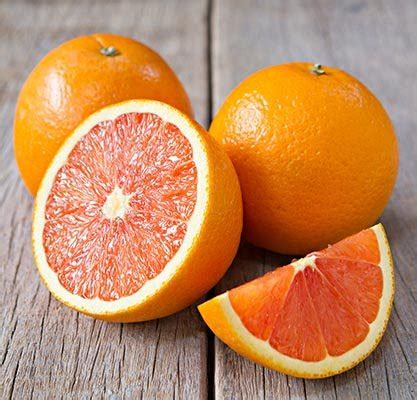orange: (202, 56, 402, 248), (9, 33, 200, 215)
